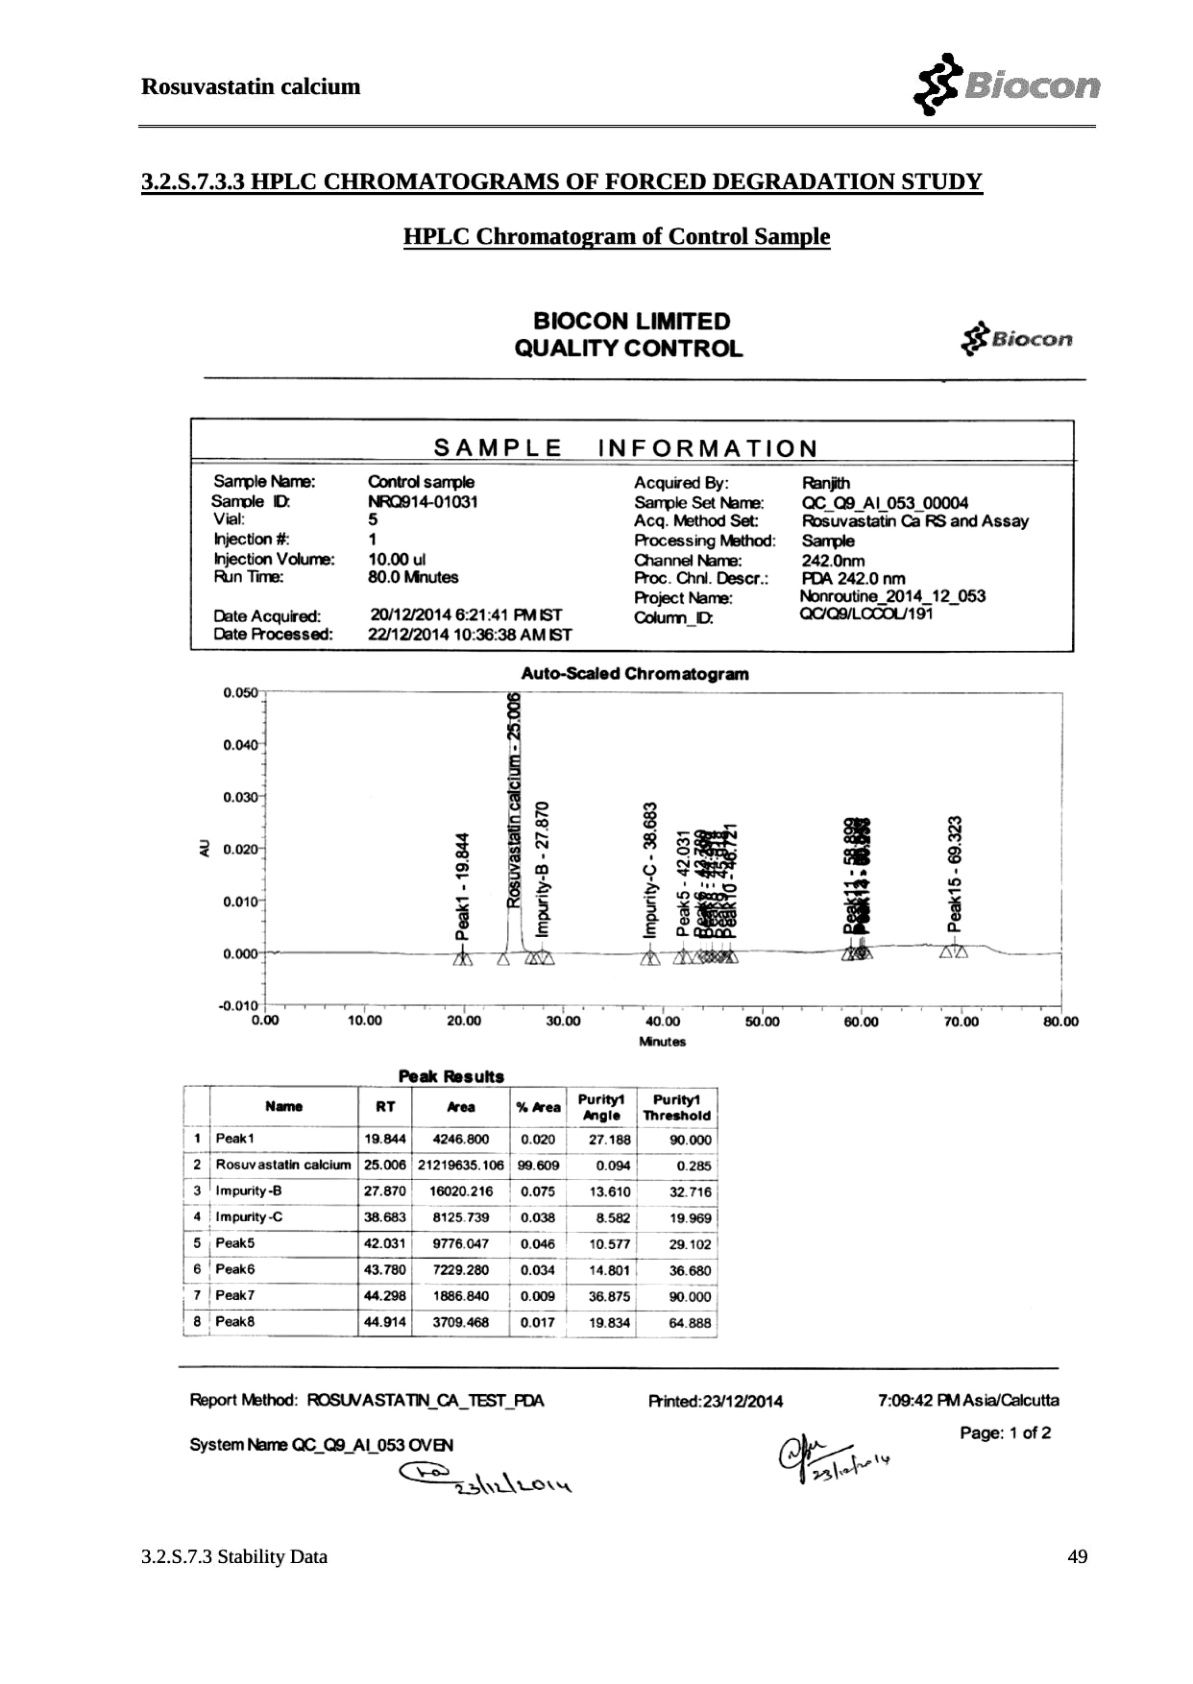full_lined: (181, 1083, 719, 1340)
partial_lined_merged_cells: (189, 418, 1076, 653)
